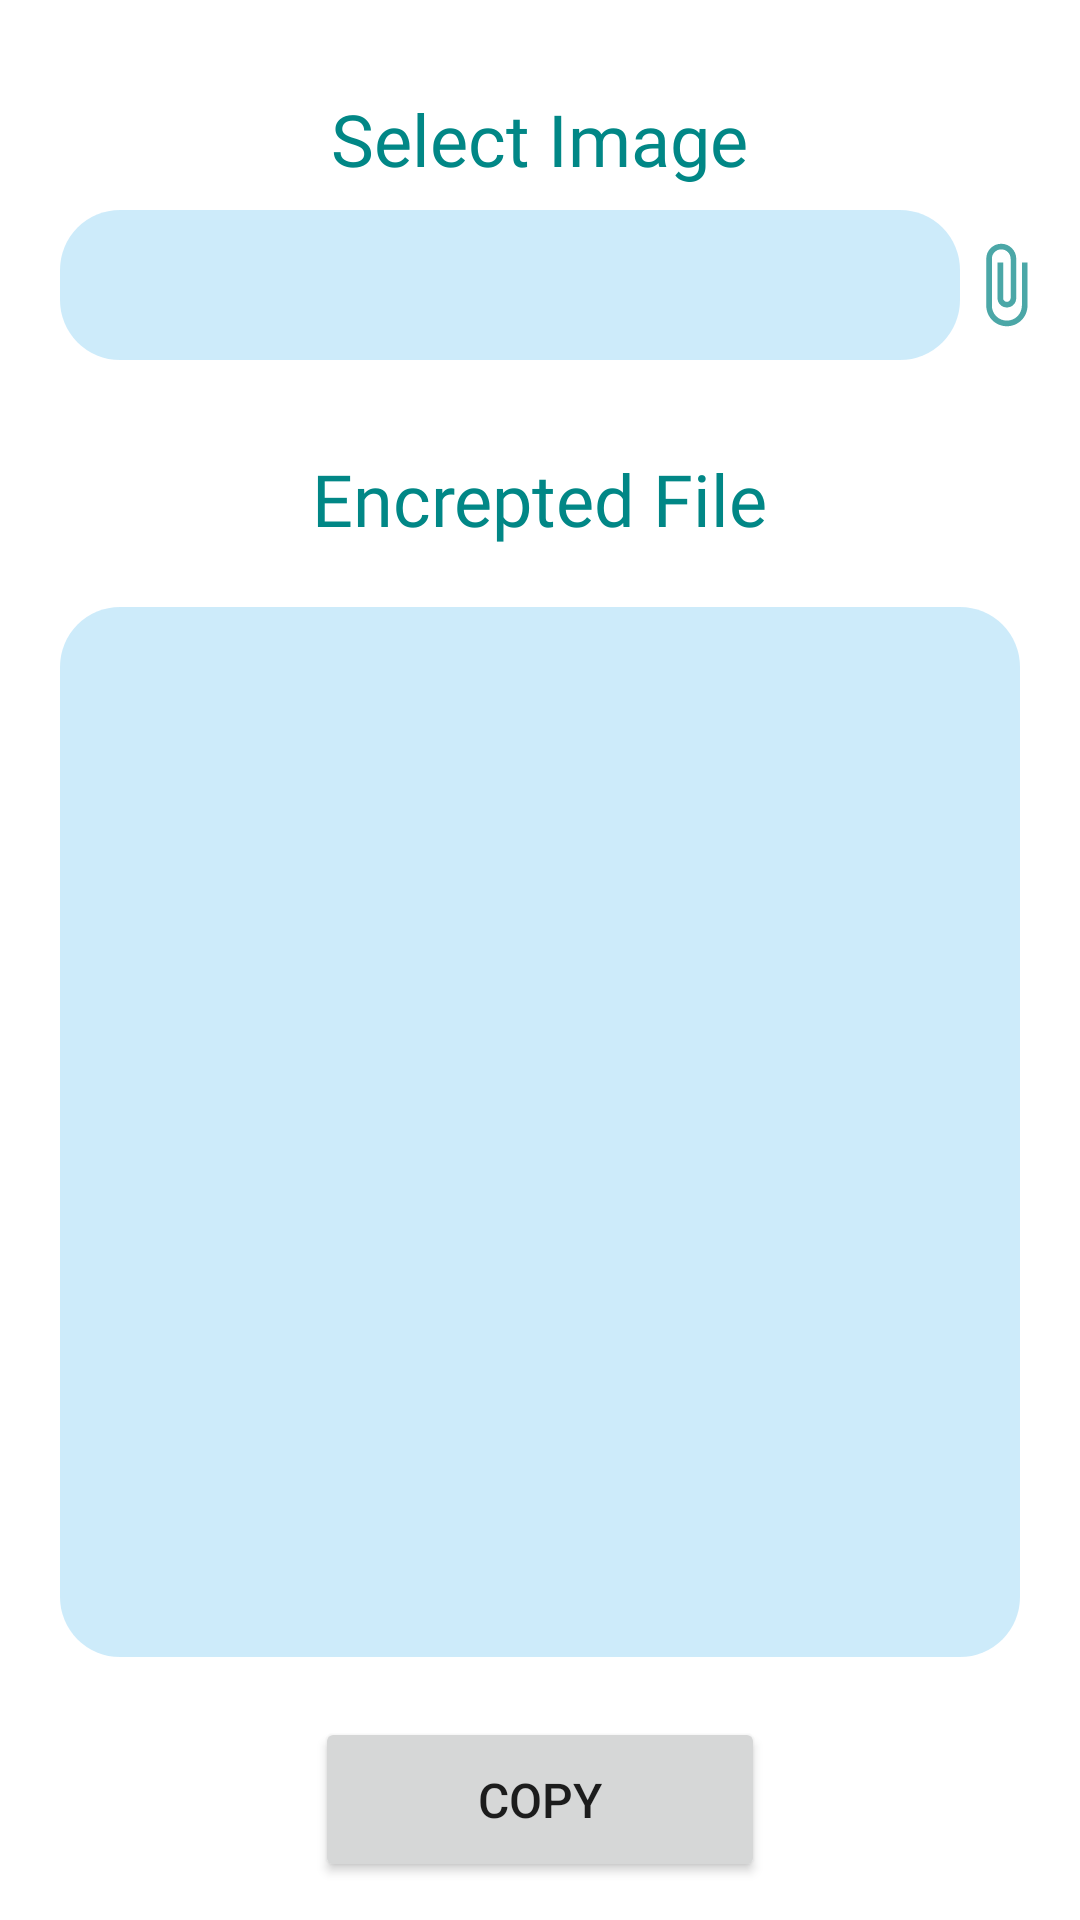

Point at icon controls on the screen. Image size 1080w x 1920h, points as (x=x, y=y).
attach file: (x=1007, y=285)
